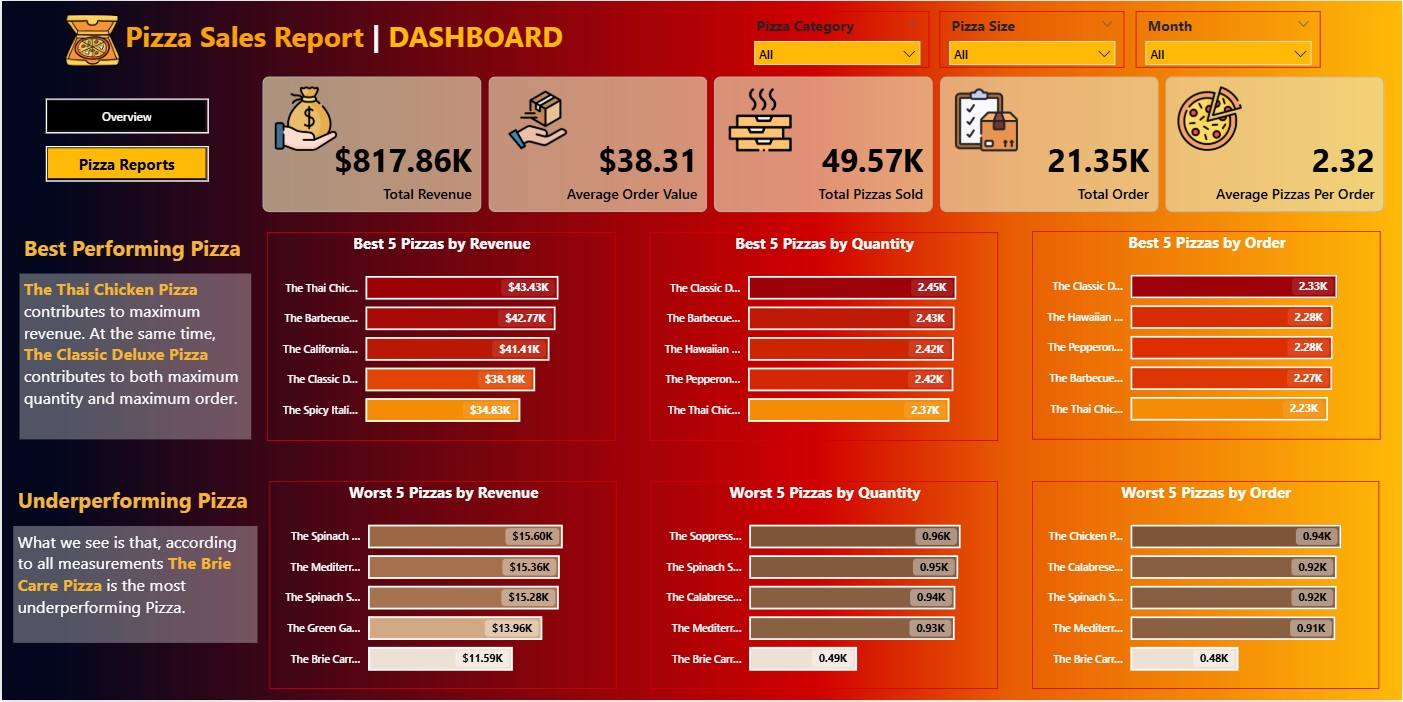

The page's visual inventory and layout, read from the dashboard file:
{"tool":"powerbi","page":{"name":"Pizza Reports","canvas":[1600,800],"ordinal":1},"visuals":[{"type":"slicer","fields":{"Values":["pizza_sales.pizza_category"]},"box":[847.9,12,211.2,64.4],"z":0},{"type":"slicer","fields":{"Values":["pizza_sales.pizza_size"]},"box":[1071.9,12,211.2,64.4],"z":1000},{"type":"slicer","fields":{"Values":["Calendar Table.Month Name"]},"box":[1295.9,12,211.2,64.4],"z":2000},{"type":"barChart","title":"Best 5 Pizzas by Revenue","fields":{"Category":["pizza_sales.pizza_name"],"Y":["_Measure Table.Total Revenue"]},"box":[303,263.6,398,238],"z":3000},{"type":"barChart","title":"Best 5 Pizzas by Quantity","fields":{"Category":["pizza_sales.pizza_name"],"Y":["_Measure Table.Total Pizzas Sold"]},"box":[740,263.7,398.5,238],"z":4000},{"type":"barChart","title":"Best 5 Pizzas by Order","fields":{"Category":["pizza_sales.pizza_name"],"Y":["_Measure Table.Total Order"]},"box":[1177.5,262.2,398.5,238],"z":5000},{"type":"barChart","title":"Worst 5 Pizzas by Revenue","fields":{"Category":["pizza_sales.pizza_name"],"Y":["_Measure Table.Total Revenue"]},"box":[305.2,548.3,396.6,237.9],"z":6000},{"type":"barChart","title":"Worst 5 Pizzas by Quantity","fields":{"Category":["pizza_sales.pizza_name"],"Y":["_Measure Table.Total Pizzas Sold"]},"box":[741.4,548.3,396.6,237.9],"z":7000},{"type":"barChart","title":"Worst 5 Pizzas by Order","fields":{"Category":["pizza_sales.pizza_name"],"Y":["_Measure Table.Total Order"]},"box":[1177.6,548.3,396.6,237.9],"z":8000},{"type":"textbox","box":[135.7,12.9,530,62.9],"z":9000},{"type":"image","box":[67.1,8.6,72.9,72.9],"z":10000},{"type":"cardVisual","fields":{"Data":["_Measure Table.Total Revenue","_Measure Table.Average Order Value","_Measure Table.Total Pizzas Sold","_Measure Table.Total Order","_Measure Table.Average Pizzas Per Order"]},"box":[292.7,81.8,1294.5,165.5],"z":11000},{"type":"image","box":[1338.2,92.7,83.6,83.6],"z":12000},{"type":"image","box":[1083.6,94.5,81.8,83.6],"z":13000},{"type":"image","box":[825.5,94.5,81.8,83.6],"z":14000},{"type":"image","box":[570.9,94.5,81.8,83.6],"z":15000},{"type":"image","box":[305.5,92.7,83.6,83.6],"z":16000},{"type":"pageNavigator","box":[50,112.1,186.4,40],"z":17000},{"type":"pageNavigator","box":[50,165.2,186.4,40.9],"z":18000},{"type":"textbox","box":[19.6,261.5,266.9,45.1],"z":19000},{"type":"textbox","box":[20.5,312,265.1,189.4],"z":20000},{"type":"textbox","box":[13.3,548.2,279.5,59.5],"z":21000},{"type":"textbox","box":[13.3,600.5,279.5,133.5],"z":22000}]}

Visuals, with their boxes in screenshot pixels (x1, y1, x2, y2), scaled from the page's 1600x800 canvas onto the 1403x702 screenshot:
slicer - pizza_sales.pizza_category: 744:11:929:67
slicer - pizza_sales.pizza_size: 940:11:1125:67
slicer - Calendar Table.Month Name: 1136:11:1322:67
"Best 5 Pizzas by Revenue" barChart: 266:231:615:440
"Best 5 Pizzas by Quantity" barChart: 649:231:998:440
"Best 5 Pizzas by Order" barChart: 1033:230:1382:439
"Worst 5 Pizzas by Revenue" barChart: 268:481:615:690
"Worst 5 Pizzas by Quantity" barChart: 650:481:998:690
"Worst 5 Pizzas by Order" barChart: 1033:481:1380:690
textbox: 119:11:584:67
image: 59:8:123:72
cardVisual - _Measure Table.Total Revenue x _Measure Table.Average Order Value: 257:72:1392:217
image: 1173:81:1247:155
image: 950:83:1022:156
image: 724:83:796:156
image: 501:83:572:156
image: 268:81:341:155
pageNavigator: 44:98:207:133
pageNavigator: 44:145:207:181
textbox: 17:229:251:269
textbox: 18:274:250:440
textbox: 12:481:257:533
textbox: 12:527:257:644
